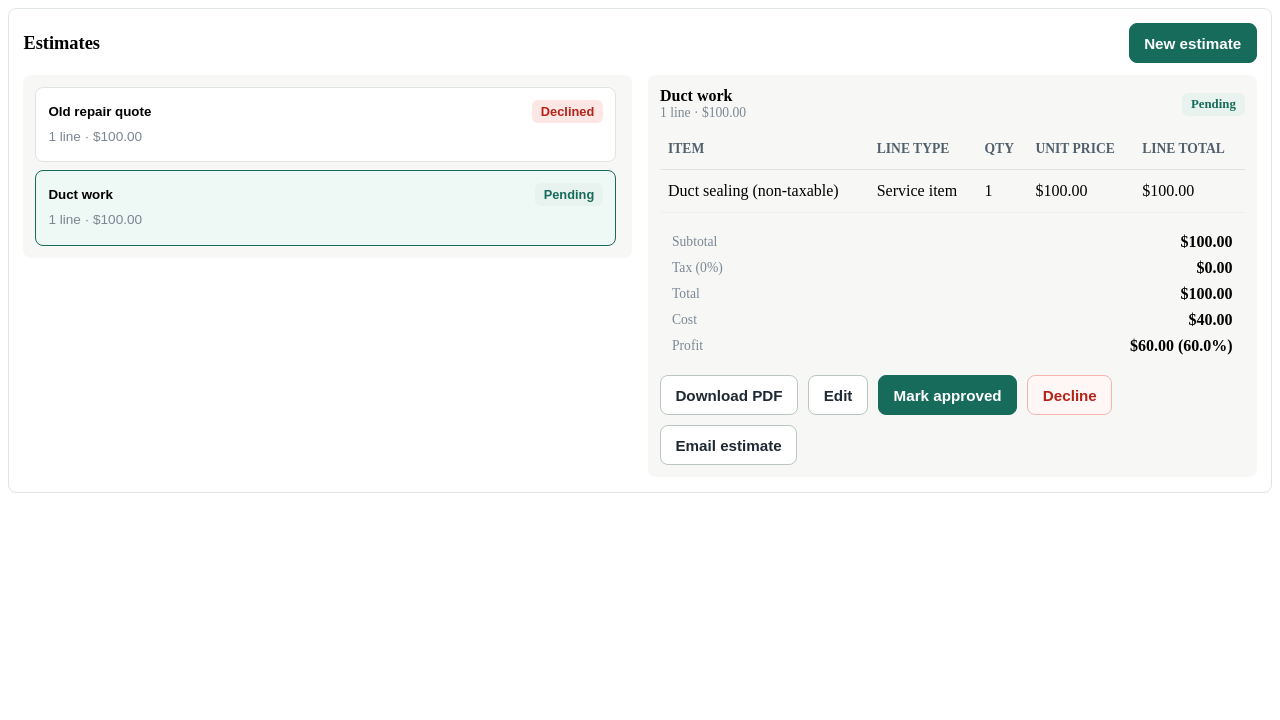
JobEstimatesSection › shows one compact row per estimate and detail for only the selected estimate
Check: the button "Duct work Pending 1 line · $100.00" is shown, box [35,170,616,246]
Check: the element that starts with "Old repair quote" has style "overflowY: auto", box [35,87,620,246]
Click the button "Old repair quote Declined 1 line · $100.00": (100, 112) [35,87,616,162]
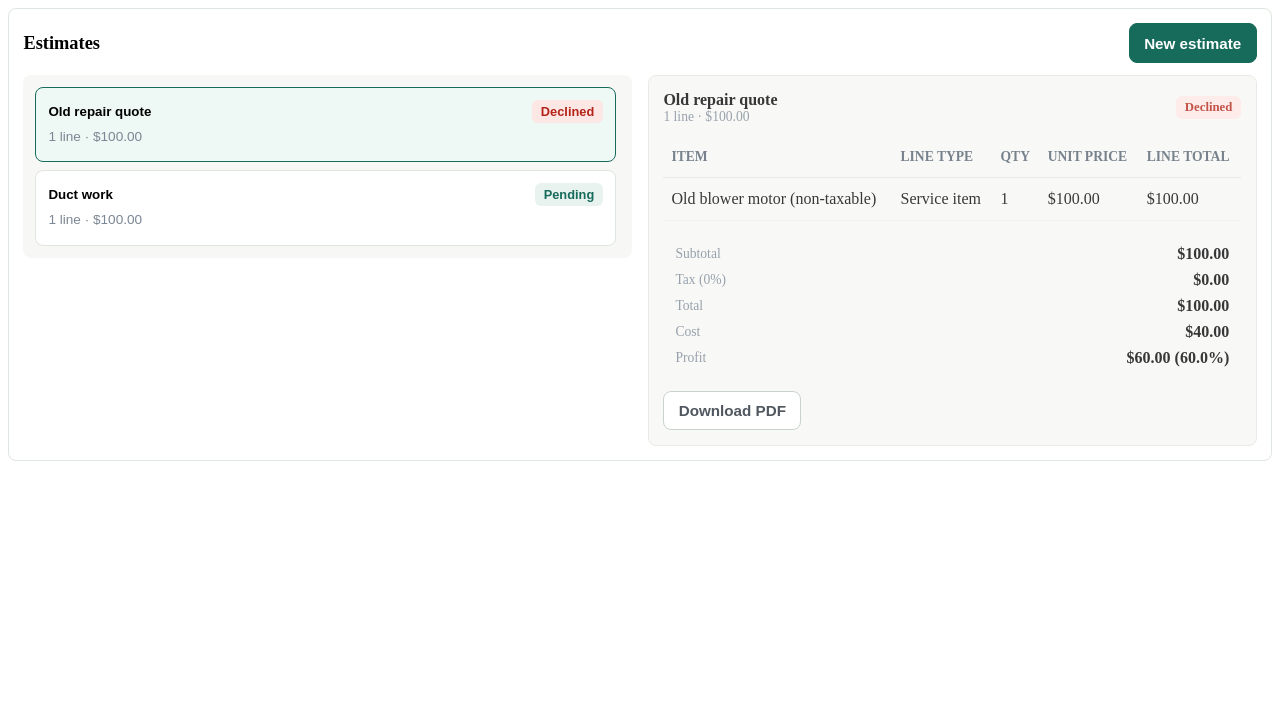
Check: the text "Old blower motor (non-taxable)" is shown, box [663,177,892,220]
Check: the text "Duct sealing" is gone
